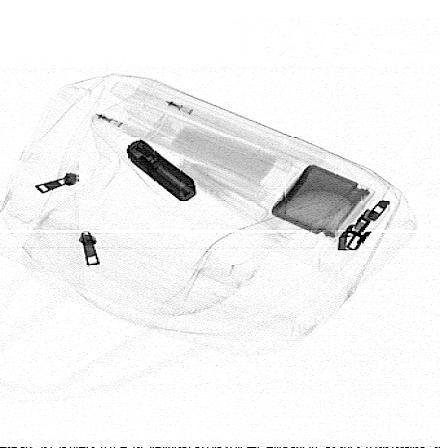Lighter: (127, 139, 197, 202)
